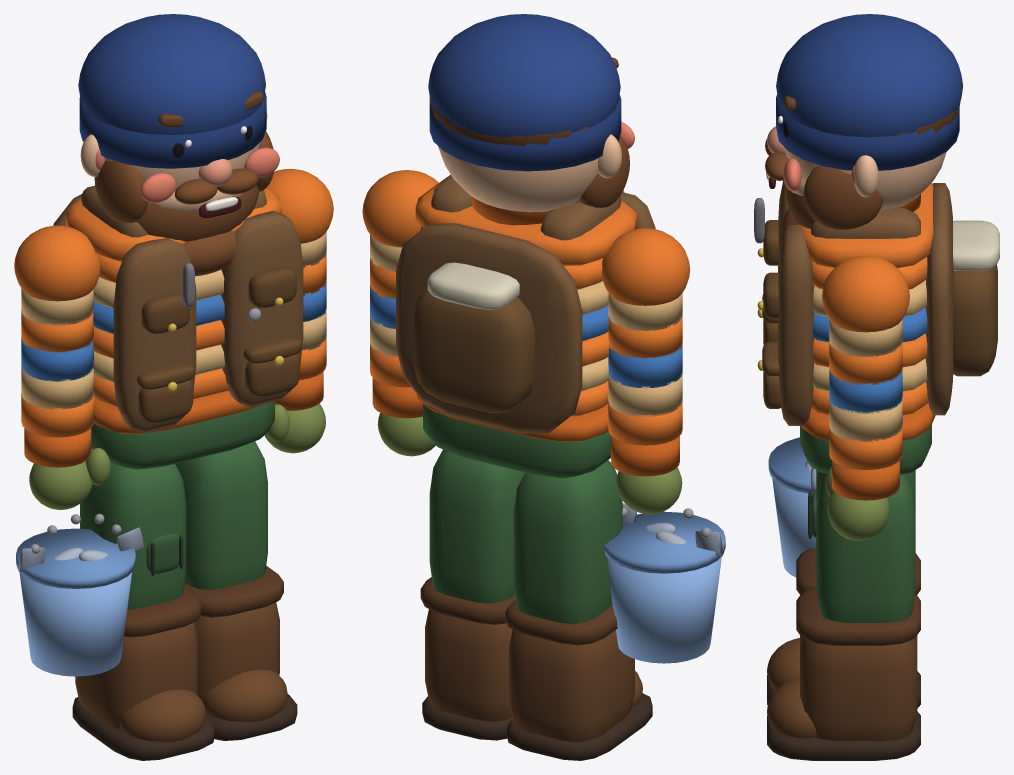
Rendered from angler0.glb.
The picture shows the model from 3 angles, left to right: view 1: azimuth 30°, elevation 25°; view 2: azimuth 150°, elevation 25°; view 3: azimuth 270°, elevation 25°; orthographic projection. The views are drawn at different scales.
Visible parts, largest first — view 1: body_7a5636, head_2f4a8a, legR_3f6a3f, legL_6a4428, armL_e8772a, head_7a4a2a, legR_6a4428, armL_8fb4e8, legL_3f6a3f, body, body_3f6a3f, head_243a70 (+24 smaller); view 2: body_7a5636, head_2f4a8a, legL_3f6a3f, body_6a4a2a, legR_3f6a3f, legL_6a4428, armL_e8772a, armL_8fb4e8, legR_6a4428, body_e8772a, body_3f6a3f, head_f1c19c (+22 smaller); view 3: head_2f4a8a, body_7a5636, legR_6a4428, legR_3f6a3f, armR_e8772a, body_e8772a, head_243a70, head_7a4a2a, body_6a4a2a, armR_d8b078, legR, head_f1c19c (+17 smaller).
Boxes of the visible parts, x1,y1,x2,y2 form: body_7a5636: (53,185,303,433); head_2f4a8a: (78,14,265,134); legR_3f6a3f: (175,441,267,590); legL_6a4428: (75,622,205,741); armL_e8772a: (14,225,100,437); head_7a4a2a: (94,131,273,276); legR_6a4428: (194,602,287,721); armL_8fb4e8: (19,572,132,676); legL_3f6a3f: (80,463,186,609); body: (137,267,301,422); body_3f6a3f: (91,401,274,469); head_243a70: (79,92,266,168); body_7a5636: (396,174,655,433); head_2f4a8a: (428,14,620,138); legL_3f6a3f: (513,460,622,624); body_6a4a2a: (413,290,534,413); legR_3f6a3f: (429,449,524,603); legL_6a4428: (509,629,642,742); armL_e8772a: (602,228,690,445); armL_8fb4e8: (607,556,721,663); legR_6a4428: (425,609,512,721); body_e8772a: (415,177,636,416); body_3f6a3f: (423,404,610,478); head_f1c19c: (438,134,621,212); head_2f4a8a: (776,14,963,137); body_7a5636: (778,180,953,425); legR_6a4428: (767,636,917,741); legR_3f6a3f: (816,473,915,622); armR_e8772a: (822,255,909,469); body_e8772a: (796,182,933,415); head_243a70: (776,94,959,170); head_7a4a2a: (765,139,882,235); body_6a4a2a: (953,264,997,376); armR_d8b078: (829,319,902,441); legR: (796,587,920,645); head_f1c19c: (785,148,946,210).
Size of the model in its own units: 1.04 by 2.09 by 0.67.
